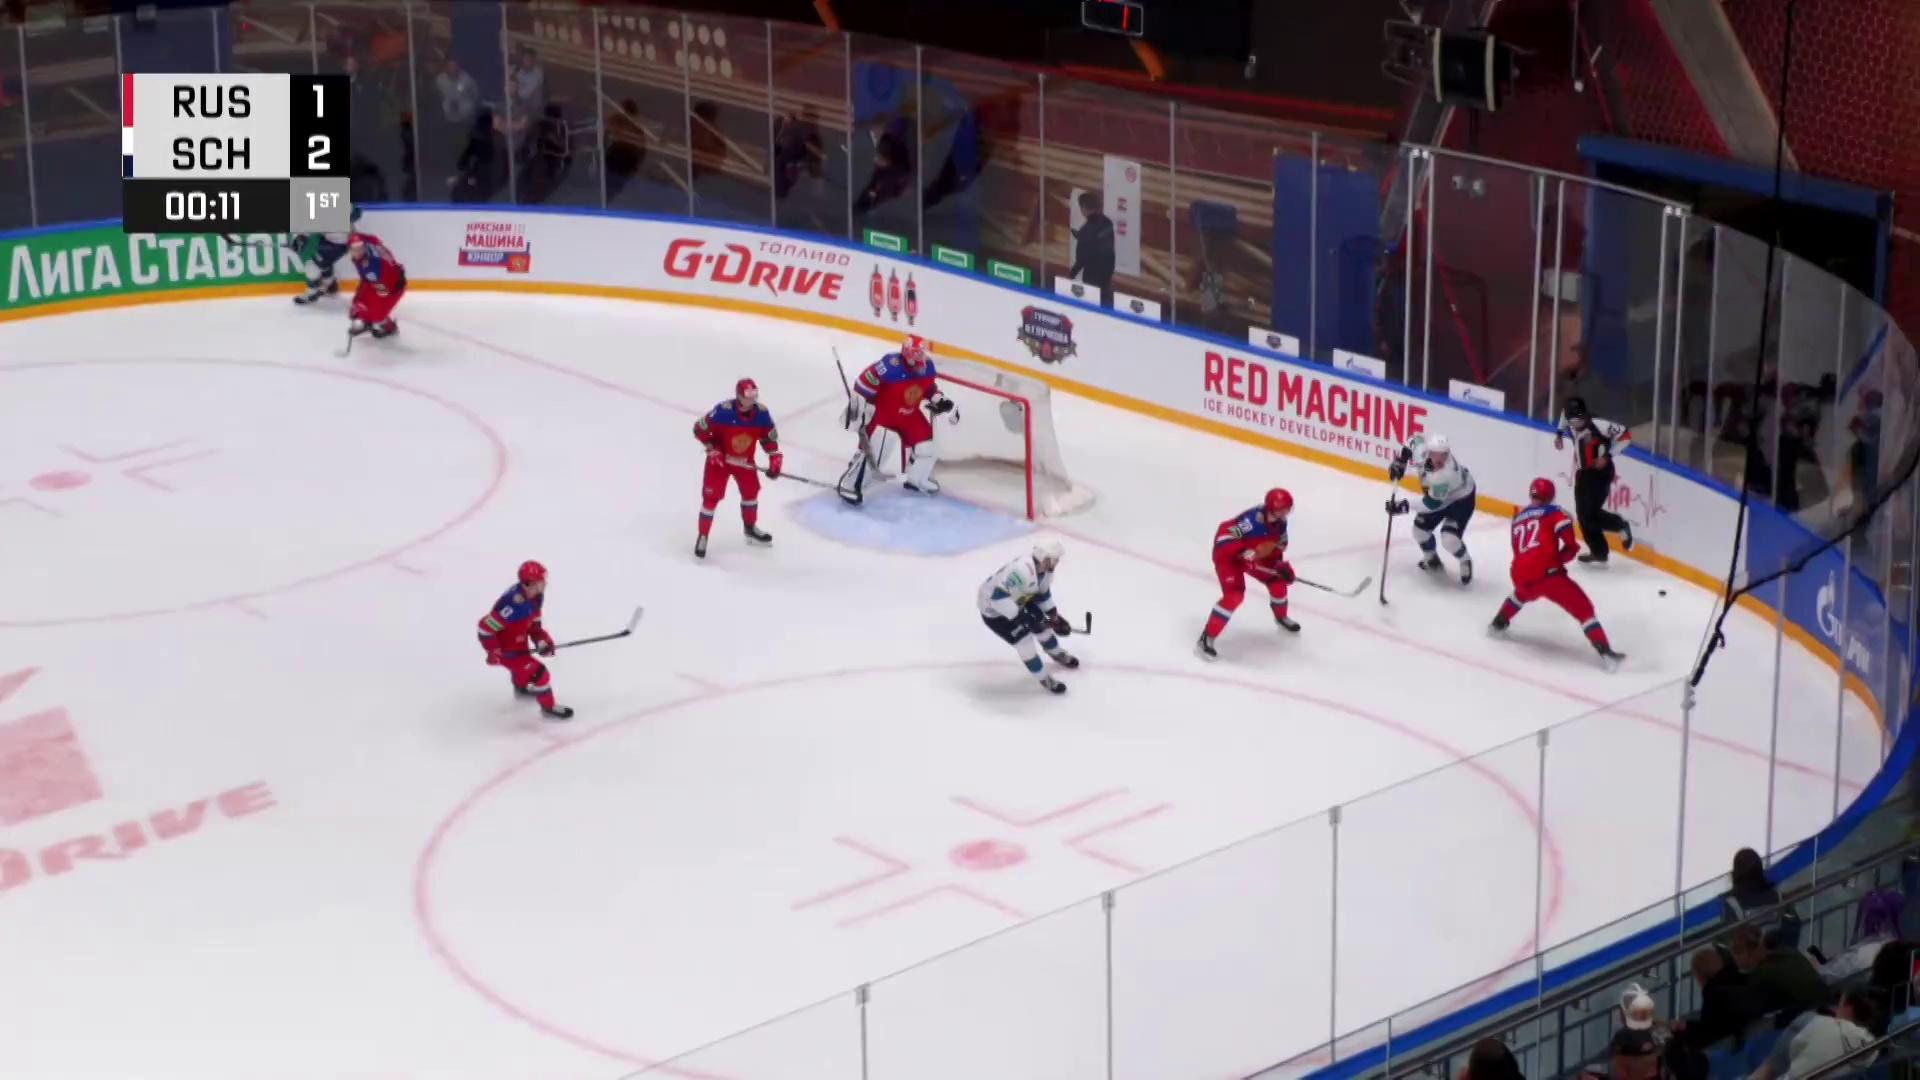ball: (1658, 589, 1667, 599)
